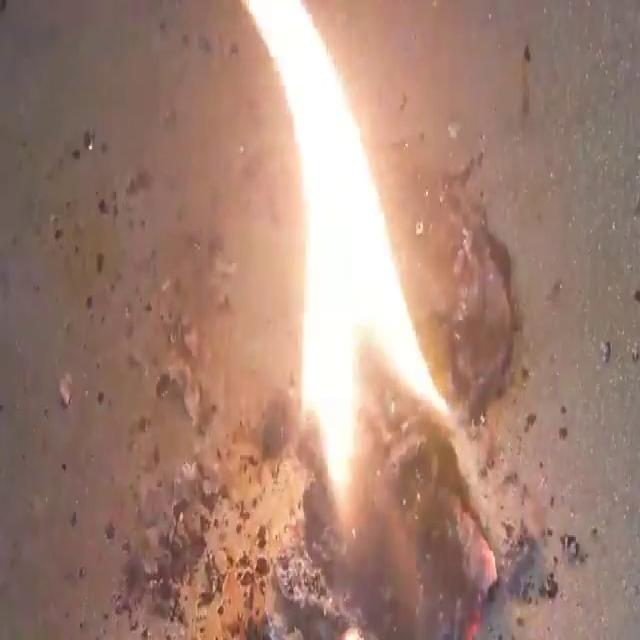Fire: (4, 2, 635, 636), (241, 2, 455, 516)
